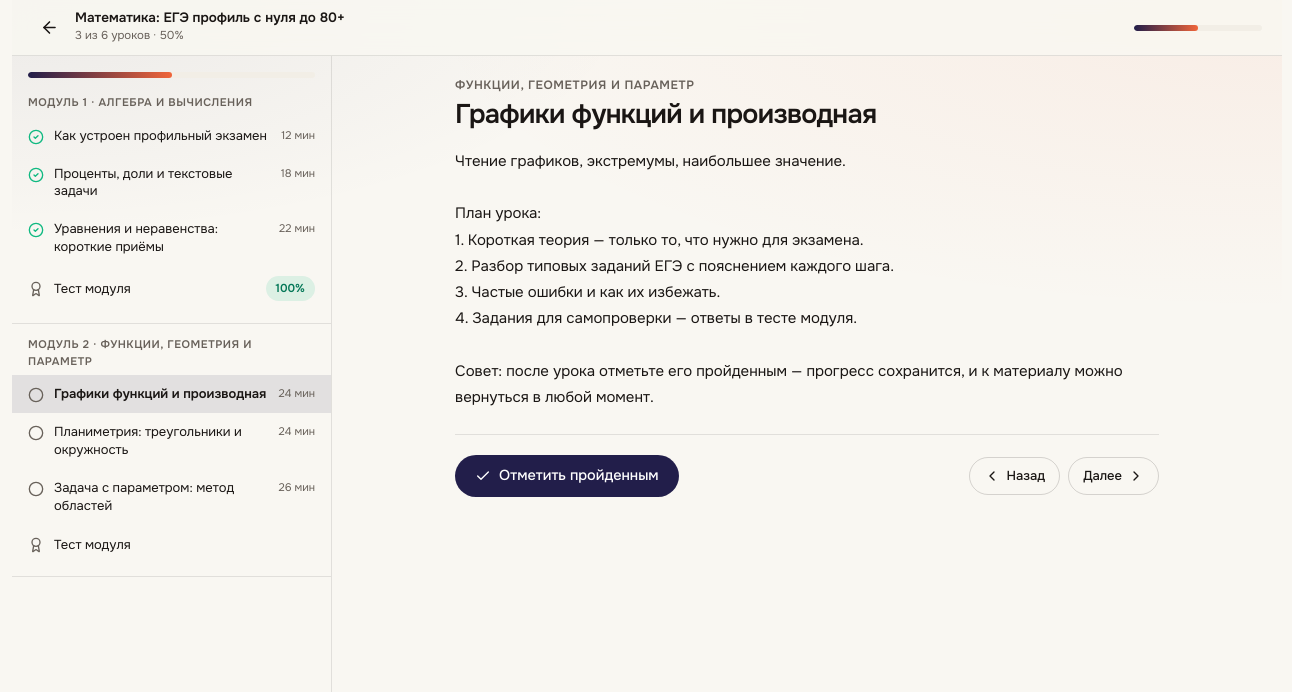
it: course and learning › marks lessons as completed and passes a module test
Expected: the heading reads "Графики функций и производная", top-left (455, 97), bottom-right (876, 131)
Step 1. Click the button "Отметить пройденным" → coordinates (567, 476), box top-left (455, 455), bottom-right (679, 497)
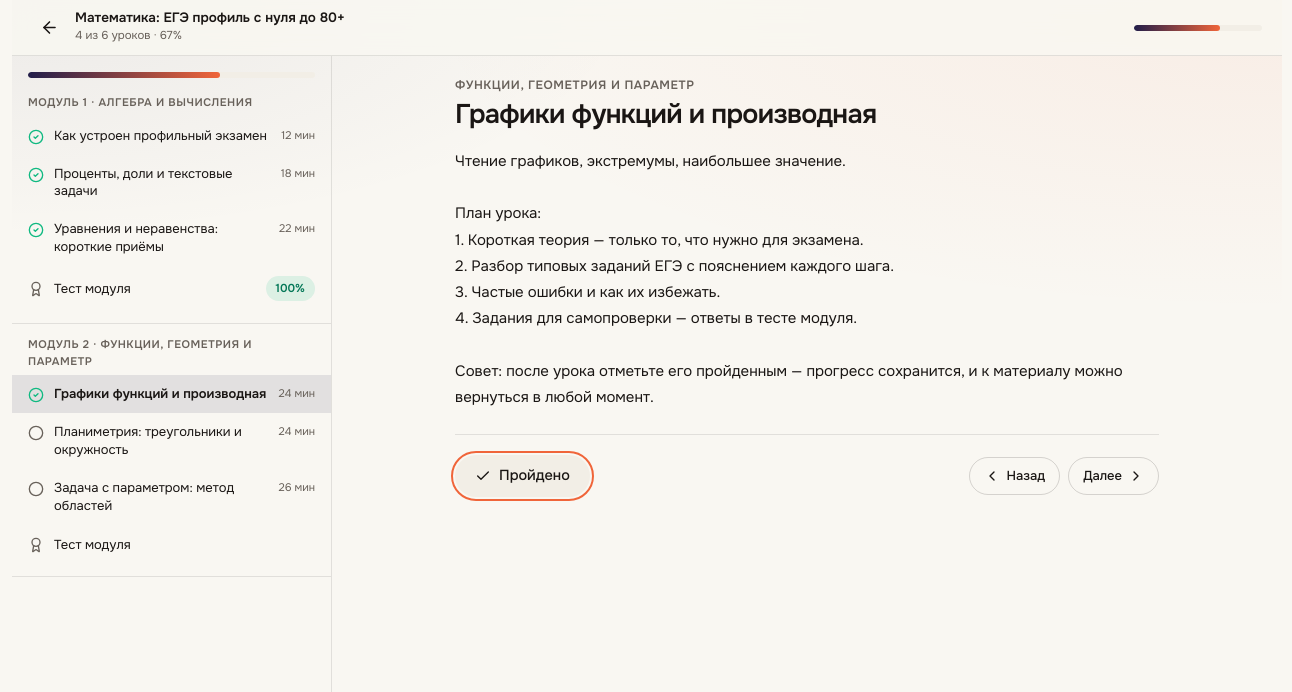
Expected: the text "4 из 6 уроков · 67%" is shown, top-left (75, 28), bottom-right (182, 43)
Step 2. Click the button "Тест модуля" → coordinates (92, 544), box top-left (12, 525), bottom-right (331, 564)
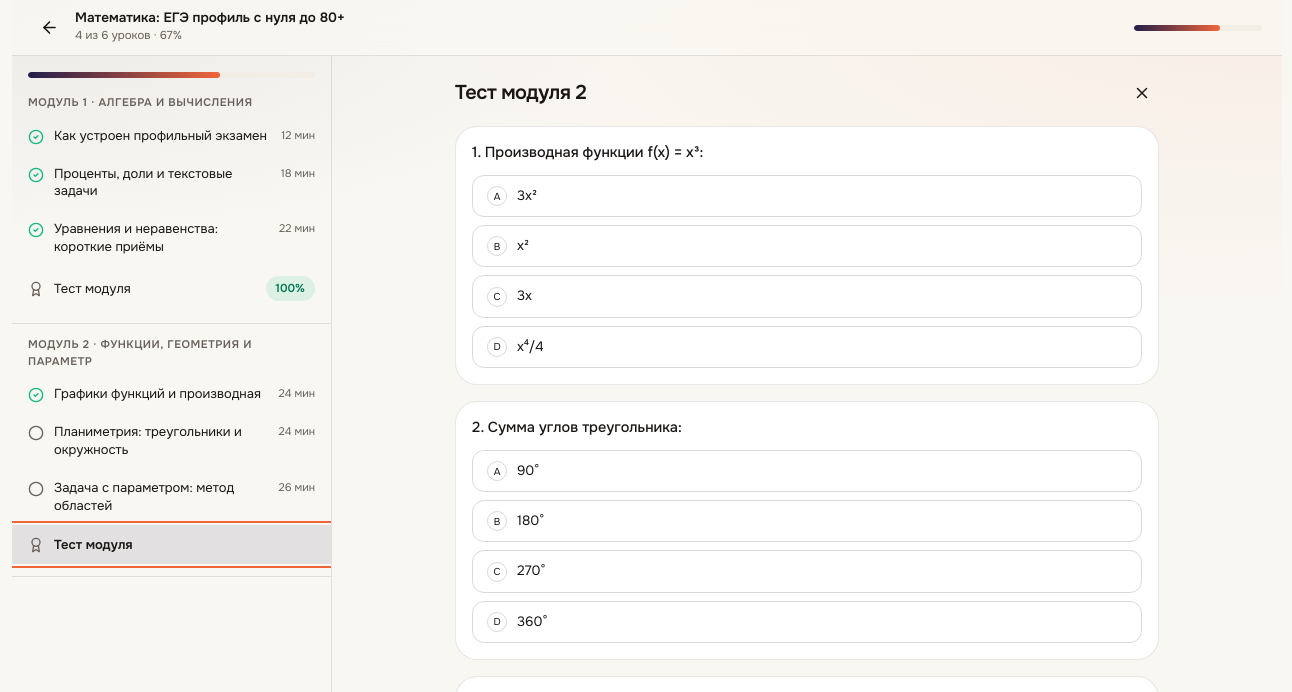
Step 3. Click the button "A 3x²" → coordinates (497, 196), box top-left (472, 175), bottom-right (1142, 217)
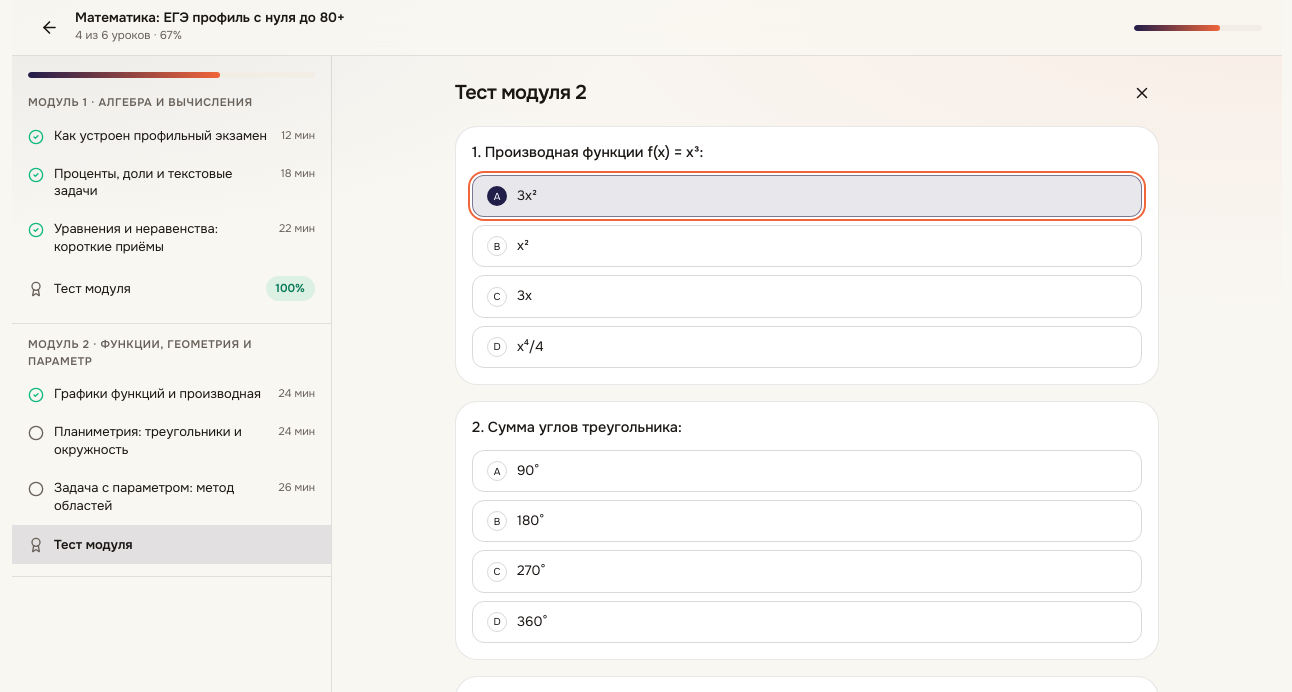
Step 4. Click the button "B 180°" → coordinates (497, 521), box top-left (472, 500), bottom-right (1142, 542)
(page scrolled)
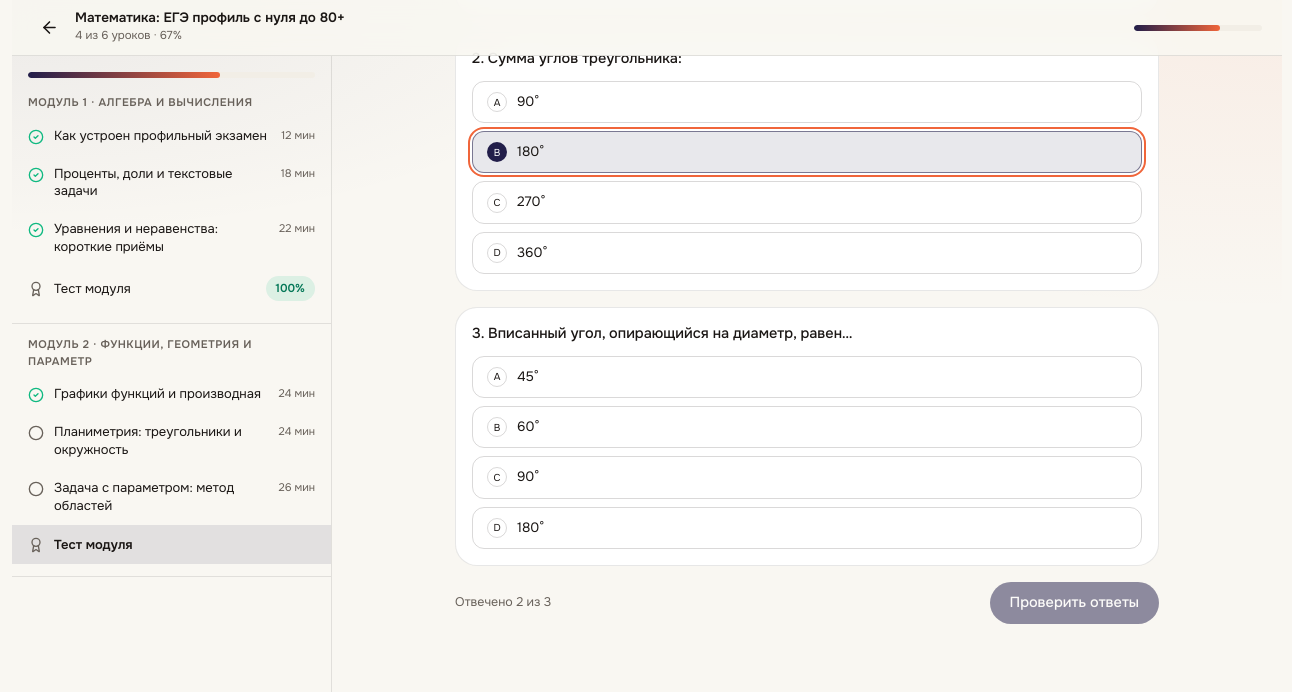
Step 5. Click the button "C 90°" → coordinates (497, 477), box top-left (472, 456), bottom-right (1142, 499)
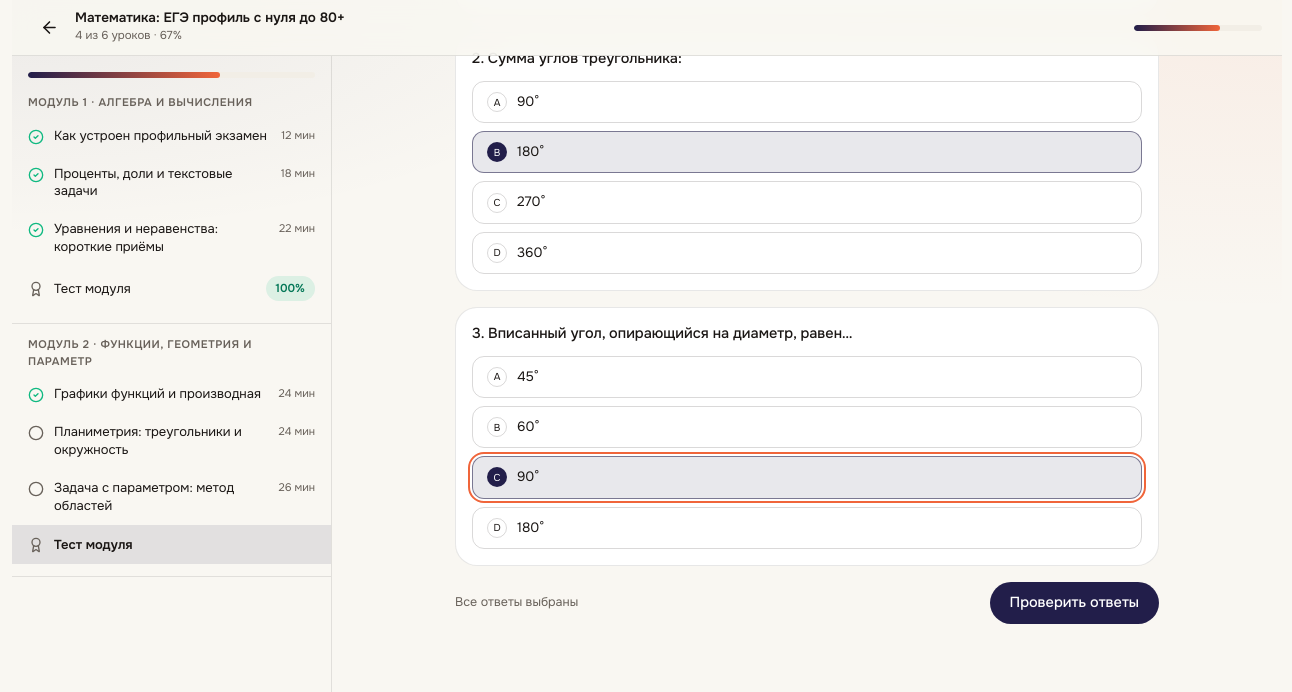
Step 6. Click the button "Проверить ответы" → coordinates (1074, 603), box top-left (990, 582), bottom-right (1159, 624)
(page scrolled)
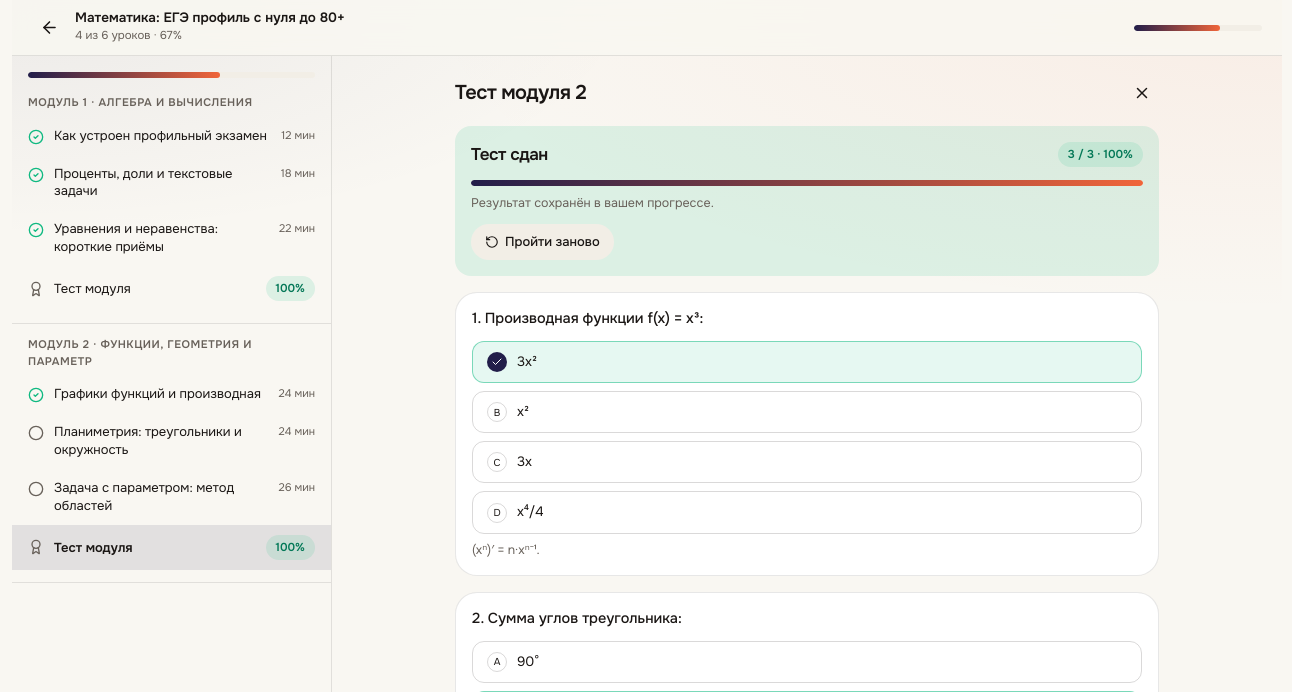
Expected: the text "Тест сдан" is shown, top-left (471, 142), bottom-right (548, 168)
